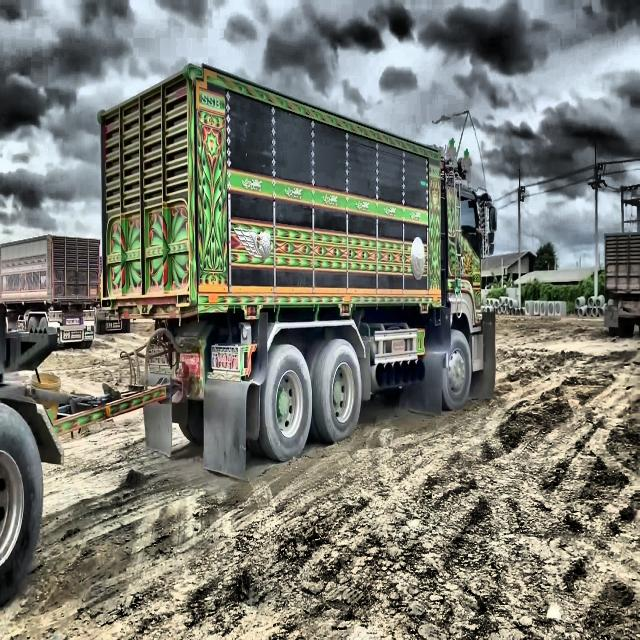trailer: (0, 59, 484, 616)
